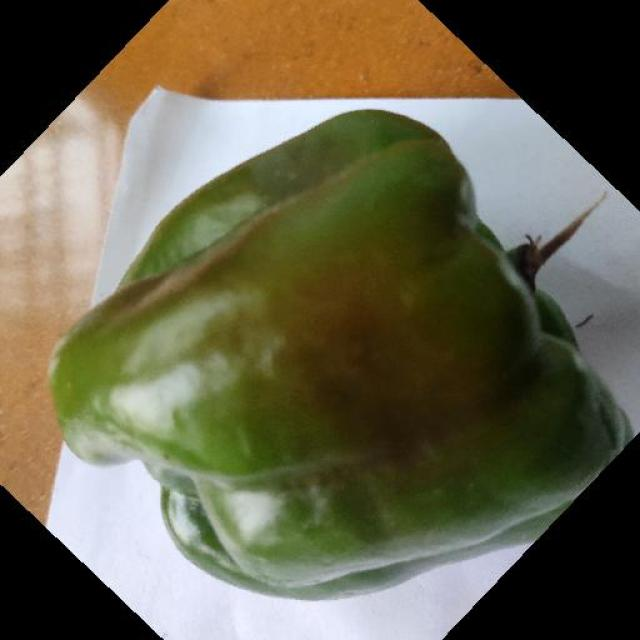Stale_Capsicum: (81, 94, 585, 580)
